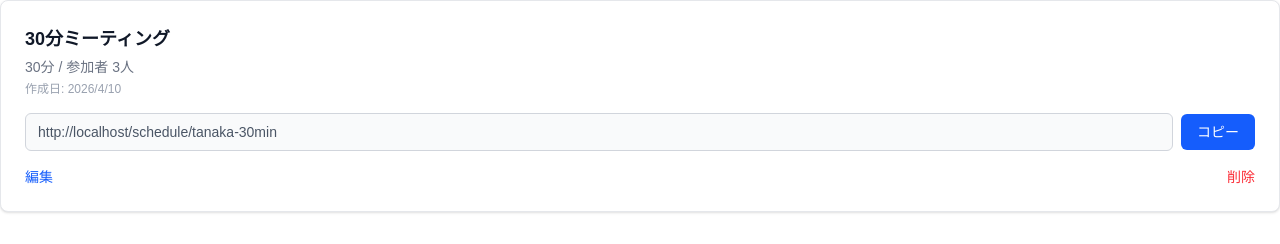
Test: ScheduleLinkCard › should hide confirmation on cancel
This screenshot has width=1280, height=244.
Click the button "削除": click(1241, 177) [1227, 167, 1255, 187]
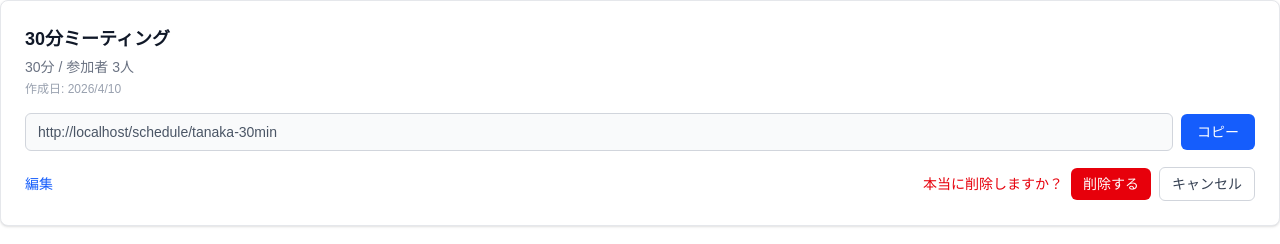
Click the button "キャンセル": click(1207, 184) [1159, 167, 1255, 201]
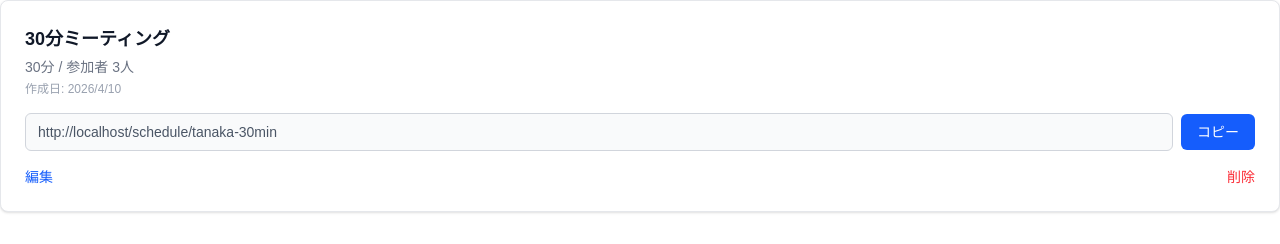
Expected: the text "本当に削除しますか？" is gone
